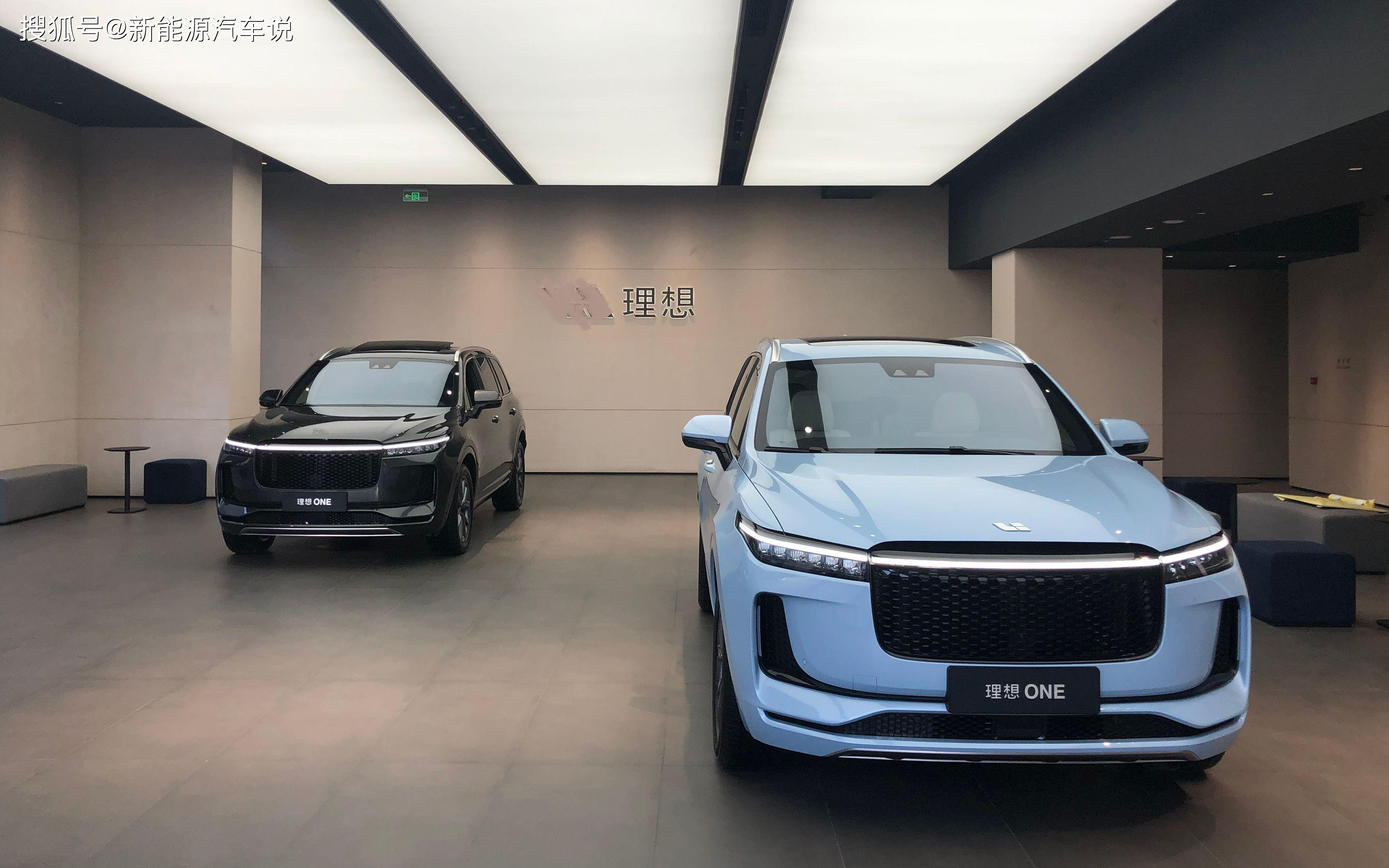Li Auto: (992, 522, 1031, 533)
